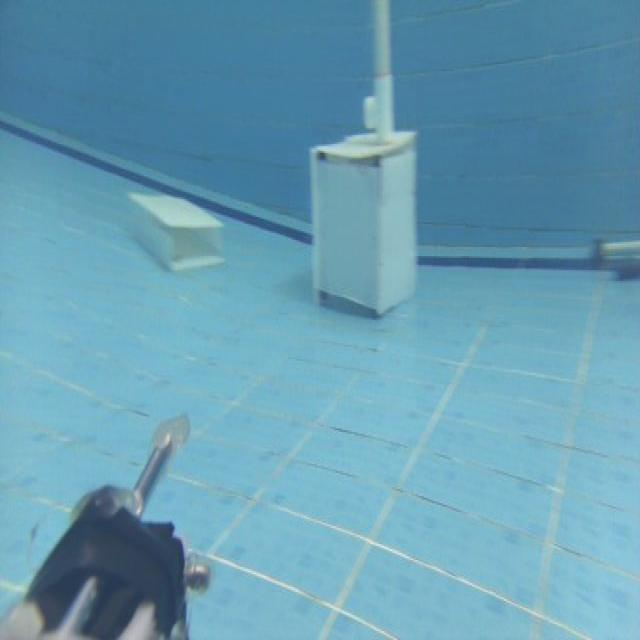Cube: (308, 126, 418, 316)
Cuboid: (127, 187, 225, 272)
